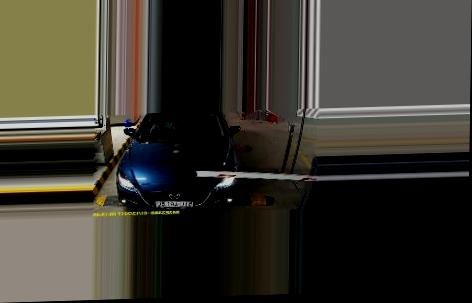License_Plate: (154, 197, 197, 209)
